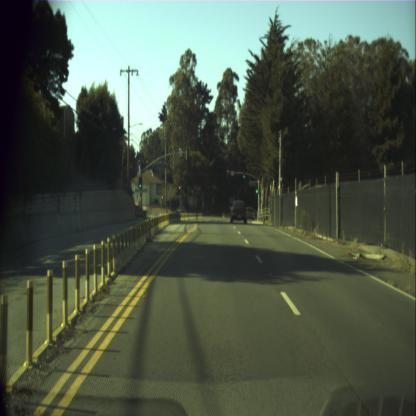Green: (254, 182, 258, 194), (138, 176, 142, 188), (242, 170, 246, 180)
RedLeft: (226, 168, 229, 179), (178, 185, 181, 194)
